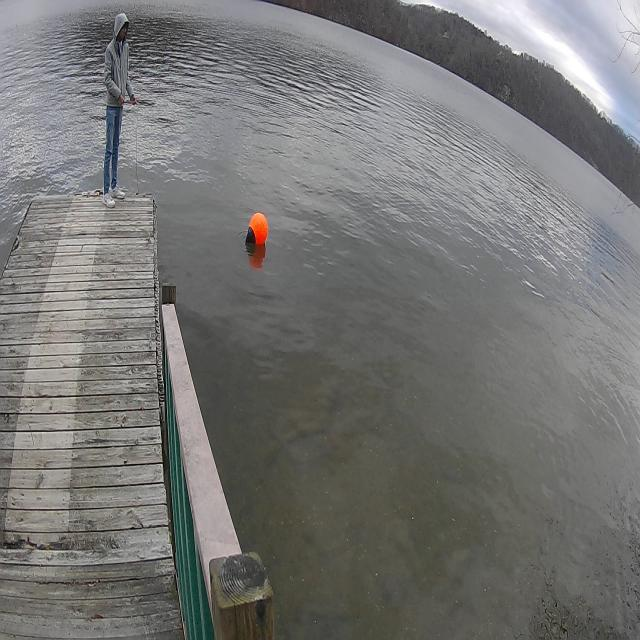Buoy: (250, 210, 268, 249)
